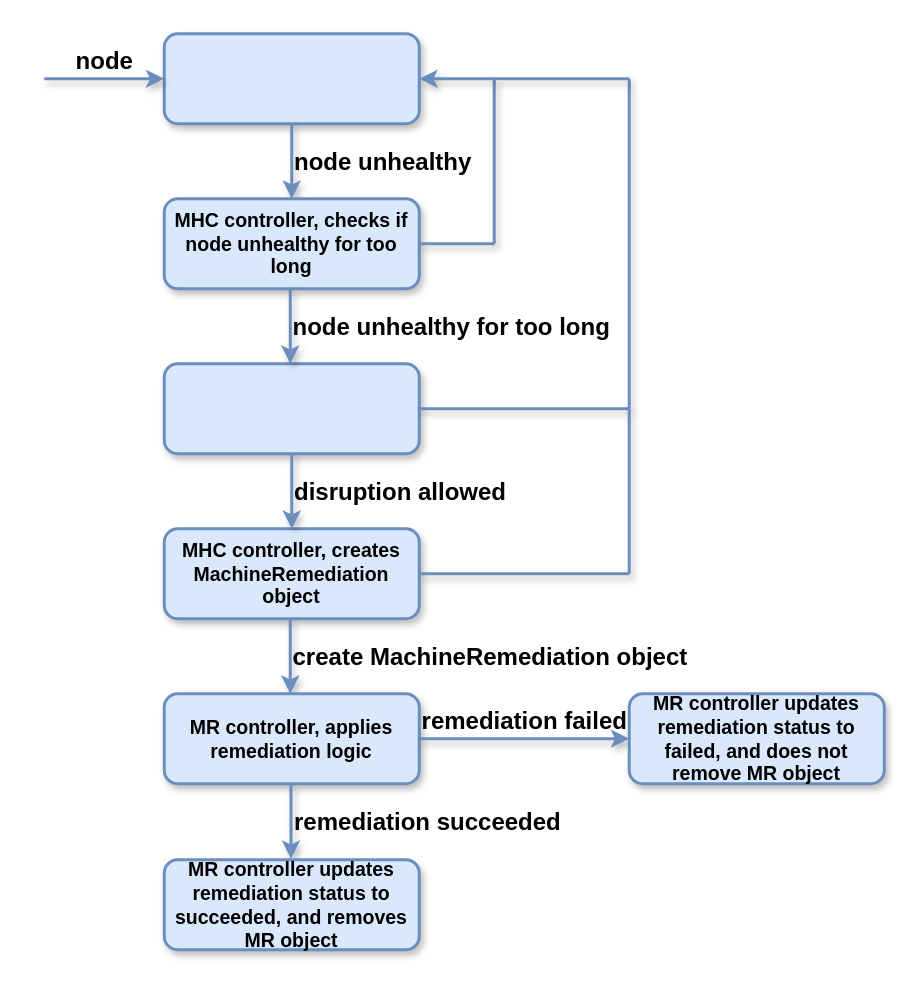
Some shapes in this 920 by 987 pixel diagram are drawn without their labels. The shapes that lost their labels are listed below. From the top down, each one's centre as x and y in pixels, then its label:
At [292,80]: "MHC controller, checks if node unhealthy".
At [292,410]: "MHC controller, checks MDB if the disruption allowed".
